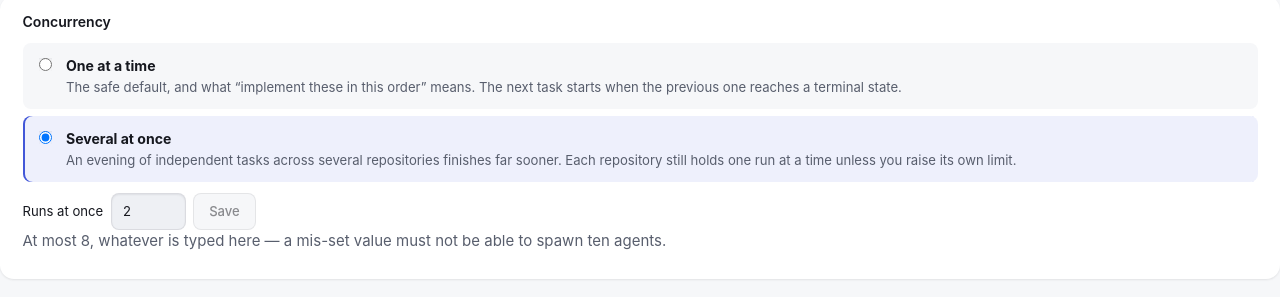
Test: ConcurrencySection › saves the limit on submit and takes the answer as the new state
Replace the text in the number field labelled "Runs at once" with "5" at (148, 212), box [111,193,186,230]
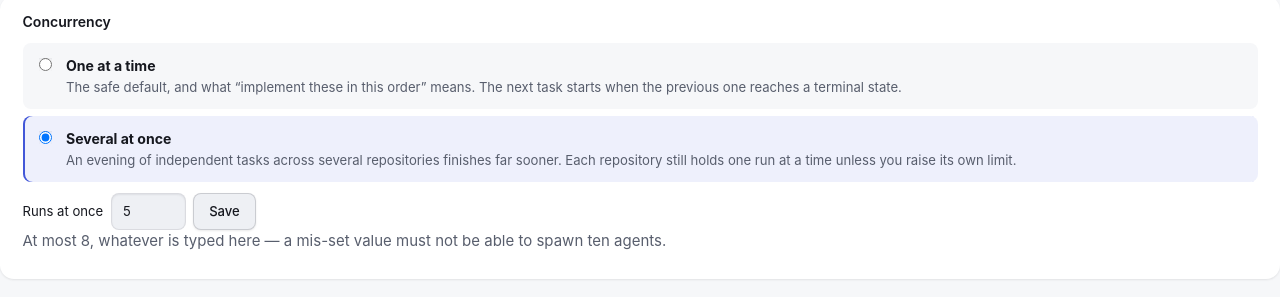
Click the button "Save" at (224, 212), box [193,193,256,230]
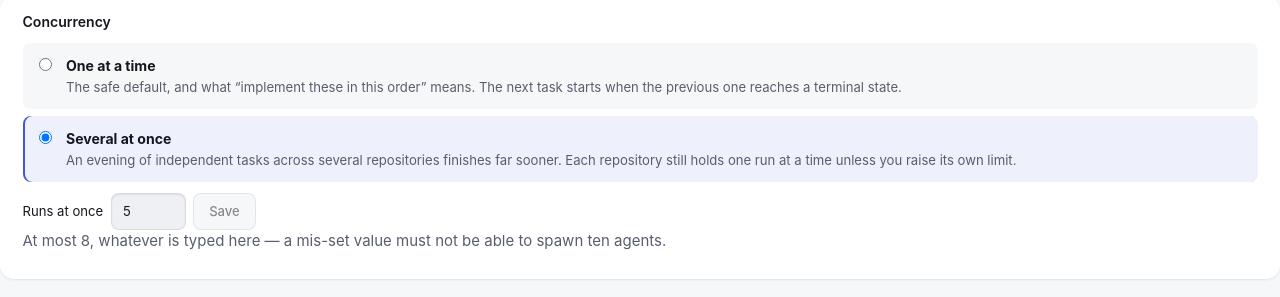
Check: the button "Save" is disabled, box [193,193,256,230]
